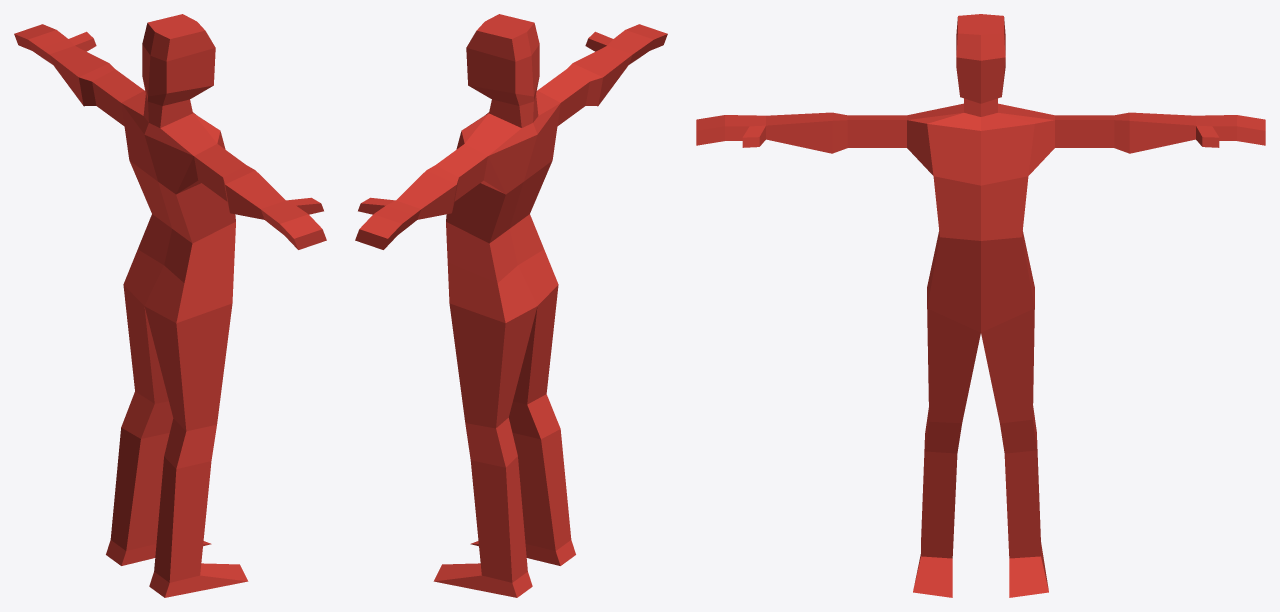
Rendered from Guy_v0.1.glb.
3 renders of one model, left to right at view 1: azimuth 30°, elevation 25°; view 2: azimuth 150°, elevation 25°; view 3: azimuth 270°, elevation 25°, orthographic.
Parts seen in each view (by area): view 1: Cube; view 2: Cube; view 3: Cube.
Boxes of the visible parts, x1,y1,x2,y2 form: Cube: [14, 14, 326, 597]; Cube: [355, 14, 667, 597]; Cube: [696, 14, 1265, 597].
Size of the model in its own units: 1.53 by 8.68 by 8.16.
